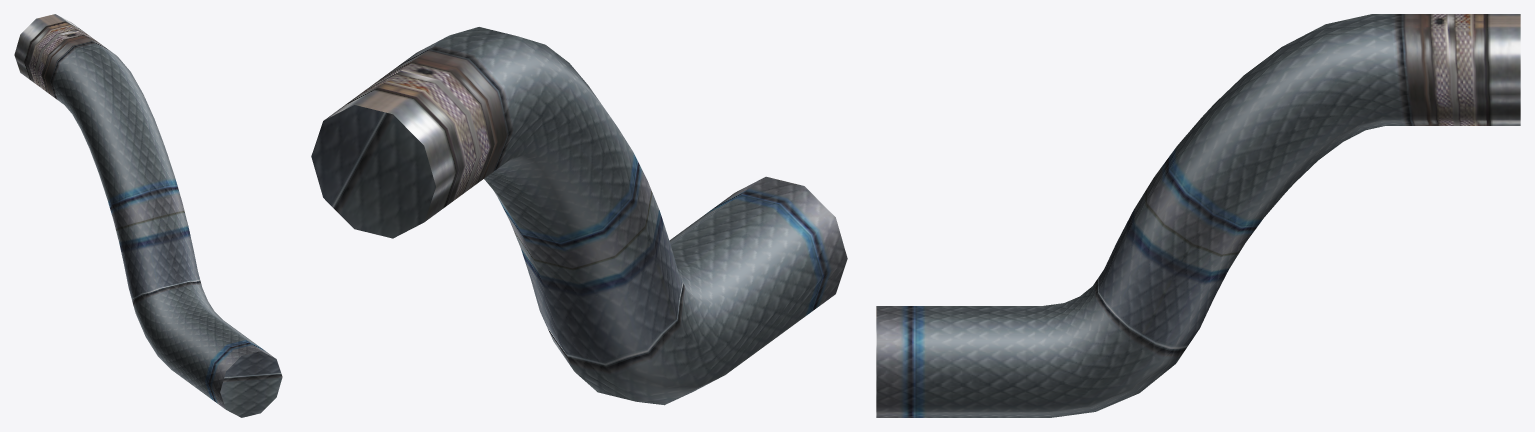
File: SM_Hose11.fbx
The picture shows the model from 3 angles, left to right: view 1: azimuth 30°, elevation 25°; view 2: azimuth 150°, elevation 25°; view 3: azimuth 270°, elevation 25°; orthographic projection. The views are drawn at different scales.
Visible parts, largest first — view 1: SM_Hose11_LOD0; view 2: SM_Hose11_LOD0; view 3: SM_Hose11_LOD0.
Boxes of the visible parts, box(x1,y1,x2,y2) form: SM_Hose11_LOD0: box(14, 14, 282, 417); SM_Hose11_LOD0: box(311, 27, 847, 405); SM_Hose11_LOD0: box(876, 14, 1520, 417).
Bounding box in the file's own units: 10.51 × 60 × 40.
1 material, 1 textured.
